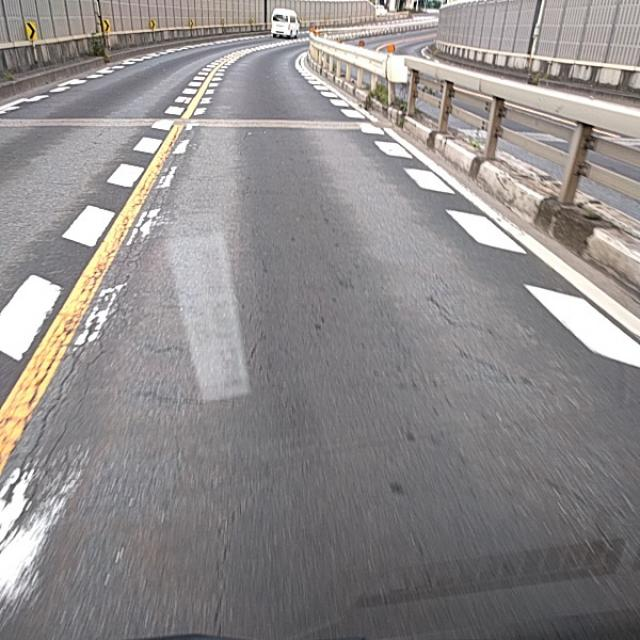pothole: (53, 266, 108, 424)
